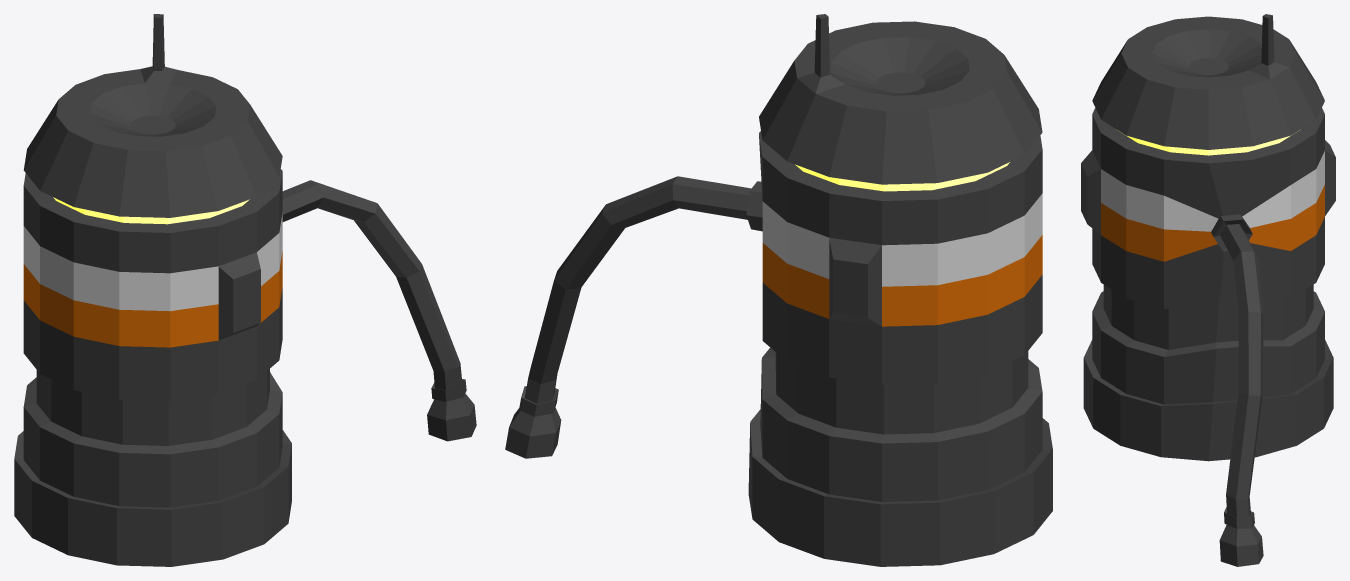
Rendered from Pump.fbx.
3 views of the same model, side by side, from view 1: azimuth 30°, elevation 25°; view 2: azimuth 150°, elevation 25°; view 3: azimuth 270°, elevation 25° (orthographic). The views are drawn at different scales.
Parts seen in each view (by area): view 1: Cylinder; view 2: Cylinder; view 3: Cylinder.
Boxes of the visible parts, x1,y1,x2,y2 form: Cylinder: [14, 14, 476, 566]; Cylinder: [505, 14, 1052, 566]; Cylinder: [1081, 14, 1335, 566].
Size of the model in its own units: 550 by 540 by 296.
